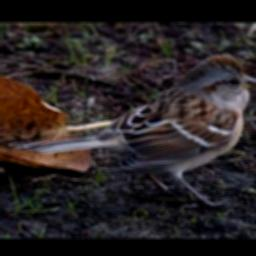Sparrow: (5, 51, 256, 210)
